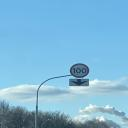speed_limit_100: (68, 62, 90, 78)
